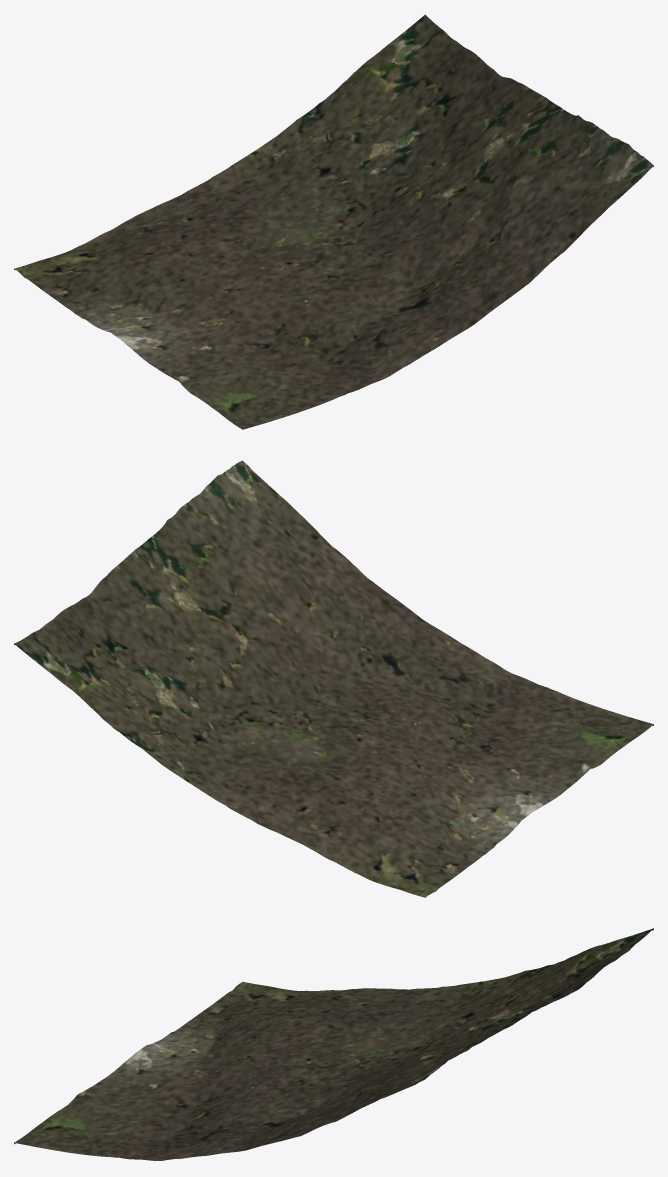
3 renders of one model, top to bottom at view 1: azimuth 30°, elevation 25°; view 2: azimuth 150°, elevation 25°; view 3: azimuth 330°, elevation 25°, orthographic.
Size of the model in its own units: 250 by 102 by 241.
1 material, 1 textured.
